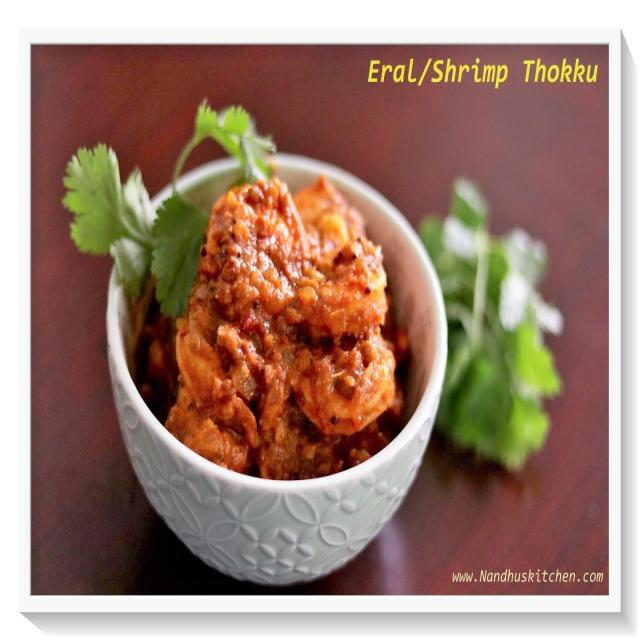prawn thokku: (154, 151, 413, 490)
